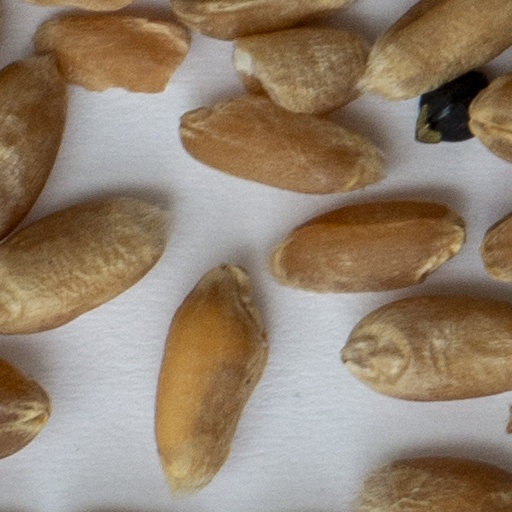Fallopia-Convolvulus-poly: (417, 74, 483, 140)
